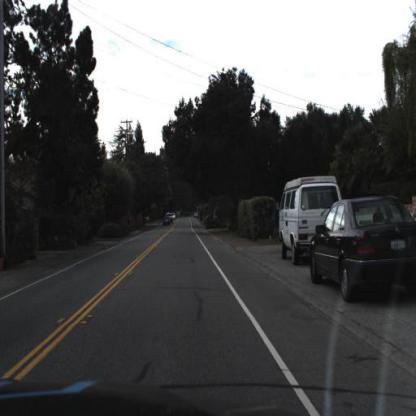car: (308, 194, 416, 304), (277, 177, 344, 266)
